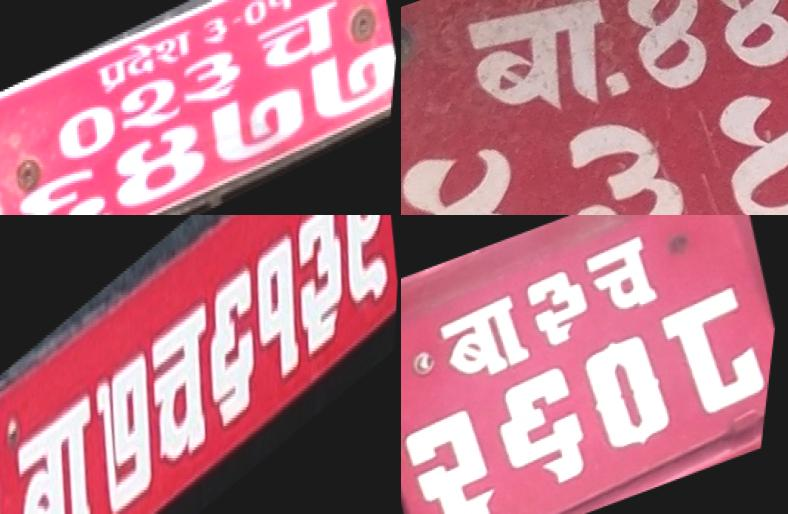0: (572, 324, 694, 461), (48, 89, 128, 172)
1: (246, 218, 314, 396)
2: (401, 396, 525, 514), (112, 63, 190, 145)
3: (530, 81, 737, 215), (287, 215, 357, 365), (516, 257, 610, 359), (171, 33, 254, 120)
4: (401, 116, 570, 215), (689, 54, 788, 215), (605, 0, 734, 103), (105, 103, 221, 215), (689, 0, 788, 86)
6: (480, 358, 616, 508), (196, 246, 274, 443), (6, 146, 126, 215)
7: (86, 335, 170, 514), (201, 60, 318, 180), (298, 23, 399, 135)
8: (646, 274, 783, 425)
9: (331, 215, 401, 322)
ba: (444, 0, 646, 148), (10, 378, 112, 514), (427, 284, 545, 396)
cha: (142, 287, 227, 482), (575, 228, 678, 328), (247, 0, 352, 87)
